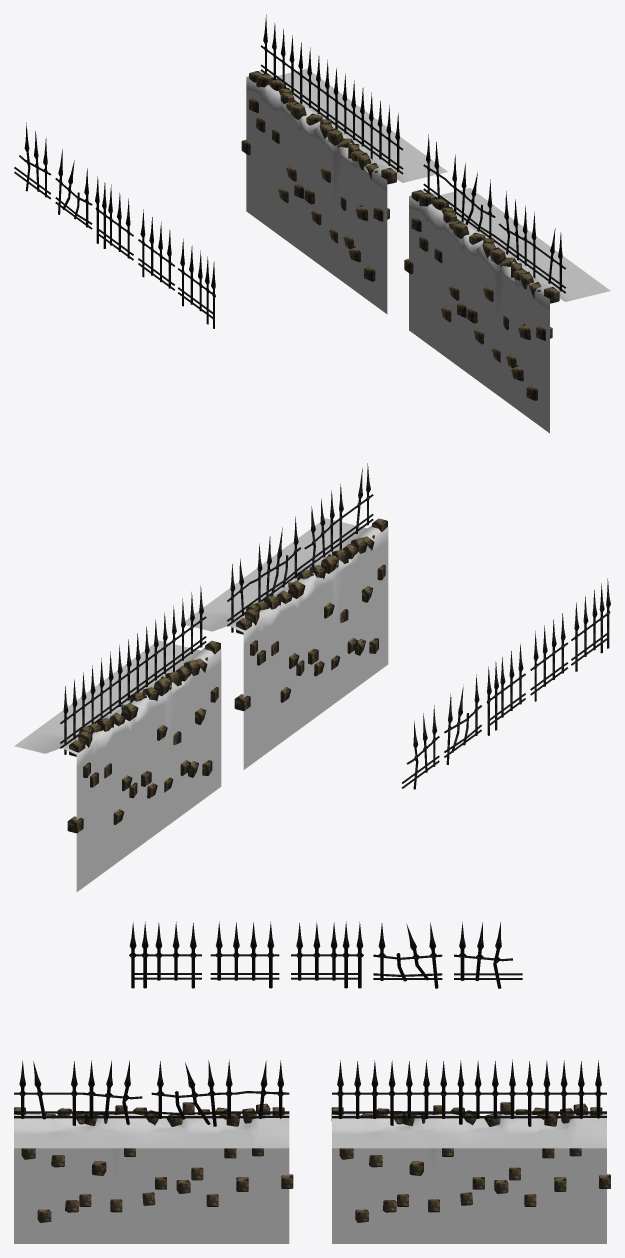
The model's file is EnvMdrMD_Mount_A_Fence_End.FBX.
3 renders of one model, top to bottom at view 1: azimuth 30°, elevation 25°; view 2: azimuth 150°, elevation 25°; view 3: azimuth 270°, elevation 25°, orthographic. The views are drawn at different scales.
Visible parts, largest first — view 1: EnvMdrMD_Mount_A_FenceWall_A_Spline, EnvMdrMD_Mount_A_FenceWall_A_Spline_Broken, EnvMdrMD_Mount_A_Fence_Start, EnvMdrMD_Mount_A_Fence_End, EnvMdrMD_Mount_A_Fence_Loop, EnvMdrMD_Mount_A_Fence_Loop_Broken_A, EnvMdrMD_Mount_A_Fence_Loop_Broken_B; view 2: EnvMdrMD_Mount_A_FenceWall_A_Spline, EnvMdrMD_Mount_A_FenceWall_A_Spline_Broken, EnvMdrMD_Mount_A_Fence_End, EnvMdrMD_Mount_A_Fence_Start, EnvMdrMD_Mount_A_Fence_Loop, EnvMdrMD_Mount_A_Fence_Loop_Broken_A, EnvMdrMD_Mount_A_Fence_Loop_Broken_B; view 3: EnvMdrMD_Mount_A_FenceWall_A_Spline, EnvMdrMD_Mount_A_FenceWall_A_Spline_Broken, EnvMdrMD_Mount_A_Fence_End, EnvMdrMD_Mount_A_Fence_Start, EnvMdrMD_Mount_A_Fence_Loop, EnvMdrMD_Mount_A_Fence_Loop_Broken_A, EnvMdrMD_Mount_A_Fence_Loop_Broken_B.
Boxes of the visible parts, bbox=[...] form: EnvMdrMD_Mount_A_FenceWall_A_Spline: bbox=[241, 14, 447, 313]; EnvMdrMD_Mount_A_FenceWall_A_Spline_Broken: bbox=[404, 134, 610, 433]; EnvMdrMD_Mount_A_Fence_Start: bbox=[95, 176, 133, 260]; EnvMdrMD_Mount_A_Fence_End: bbox=[177, 238, 215, 328]; EnvMdrMD_Mount_A_Fence_Loop: bbox=[138, 209, 174, 290]; EnvMdrMD_Mount_A_Fence_Loop_Broken_A: bbox=[55, 149, 92, 229]; EnvMdrMD_Mount_A_Fence_Loop_Broken_B: bbox=[14, 122, 51, 199]; EnvMdrMD_Mount_A_FenceWall_A_Spline: bbox=[14, 586, 221, 891]; EnvMdrMD_Mount_A_FenceWall_A_Spline_Broken: bbox=[185, 463, 388, 769]; EnvMdrMD_Mount_A_Fence_End: bbox=[571, 578, 610, 671]; EnvMdrMD_Mount_A_Fence_Start: bbox=[486, 644, 525, 735]; EnvMdrMD_Mount_A_Fence_Loop: bbox=[530, 613, 568, 701]; EnvMdrMD_Mount_A_Fence_Loop_Broken_A: bbox=[444, 674, 481, 764]; EnvMdrMD_Mount_A_Fence_Loop_Broken_B: bbox=[401, 705, 439, 789]; EnvMdrMD_Mount_A_FenceWall_A_Spline: bbox=[331, 1059, 610, 1243]; EnvMdrMD_Mount_A_FenceWall_A_Spline_Broken: bbox=[14, 1060, 293, 1243]; EnvMdrMD_Mount_A_Fence_End: bbox=[129, 921, 201, 988]; EnvMdrMD_Mount_A_Fence_Start: bbox=[291, 921, 363, 988]; EnvMdrMD_Mount_A_Fence_Loop: bbox=[210, 921, 279, 988]; EnvMdrMD_Mount_A_Fence_Loop_Broken_A: bbox=[373, 922, 442, 988]; EnvMdrMD_Mount_A_Fence_Loop_Broken_B: bbox=[454, 922, 522, 988].
Size of the model in its own units: 1111 by 615 by 1735.
